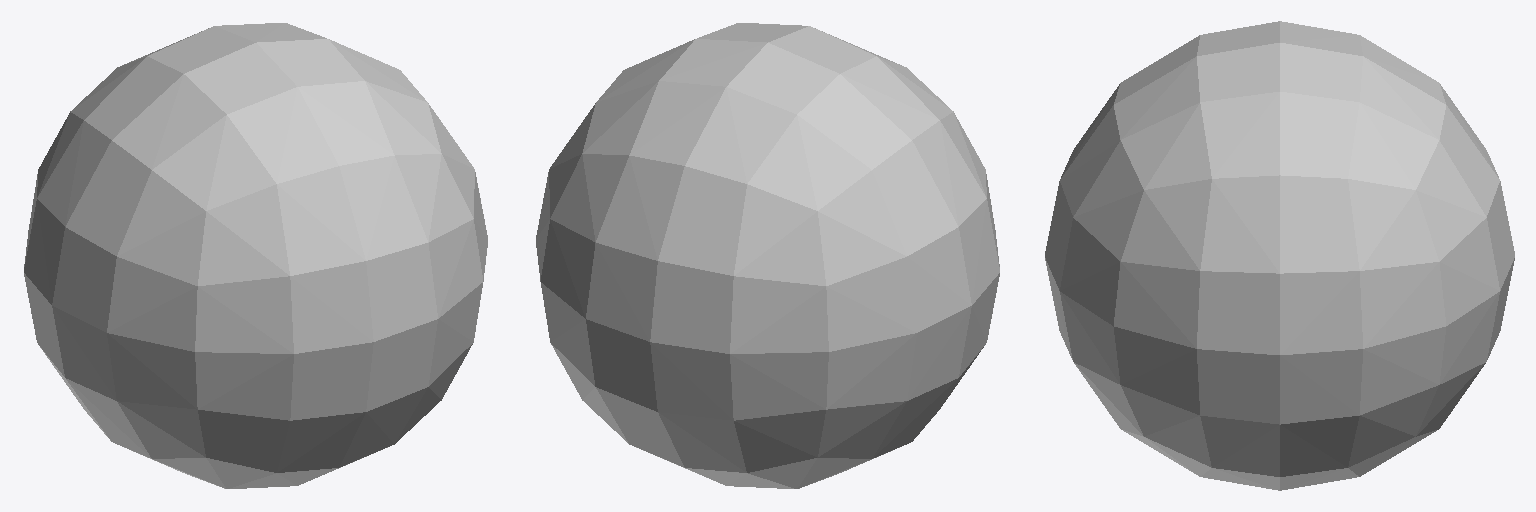
The model's file is Eye_Right.obj.
3 renders of one model, left to right at view 1: azimuth 30°, elevation 25°; view 2: azimuth 150°, elevation 25°; view 3: azimuth 270°, elevation 25°, orthographic.
Parts seen in each view (by area): view 1: Eyes.001_Cube.001; view 2: Eyes.001_Cube.001; view 3: Eyes.001_Cube.001.
Part boxes in pixels (x1,y1,x2,y2): Eyes.001_Cube.001: (24, 23, 487, 488); Eyes.001_Cube.001: (536, 23, 999, 488); Eyes.001_Cube.001: (1045, 21, 1514, 490).
Size of the model in its own units: 0.6301 by 0.6301 by 0.6301.